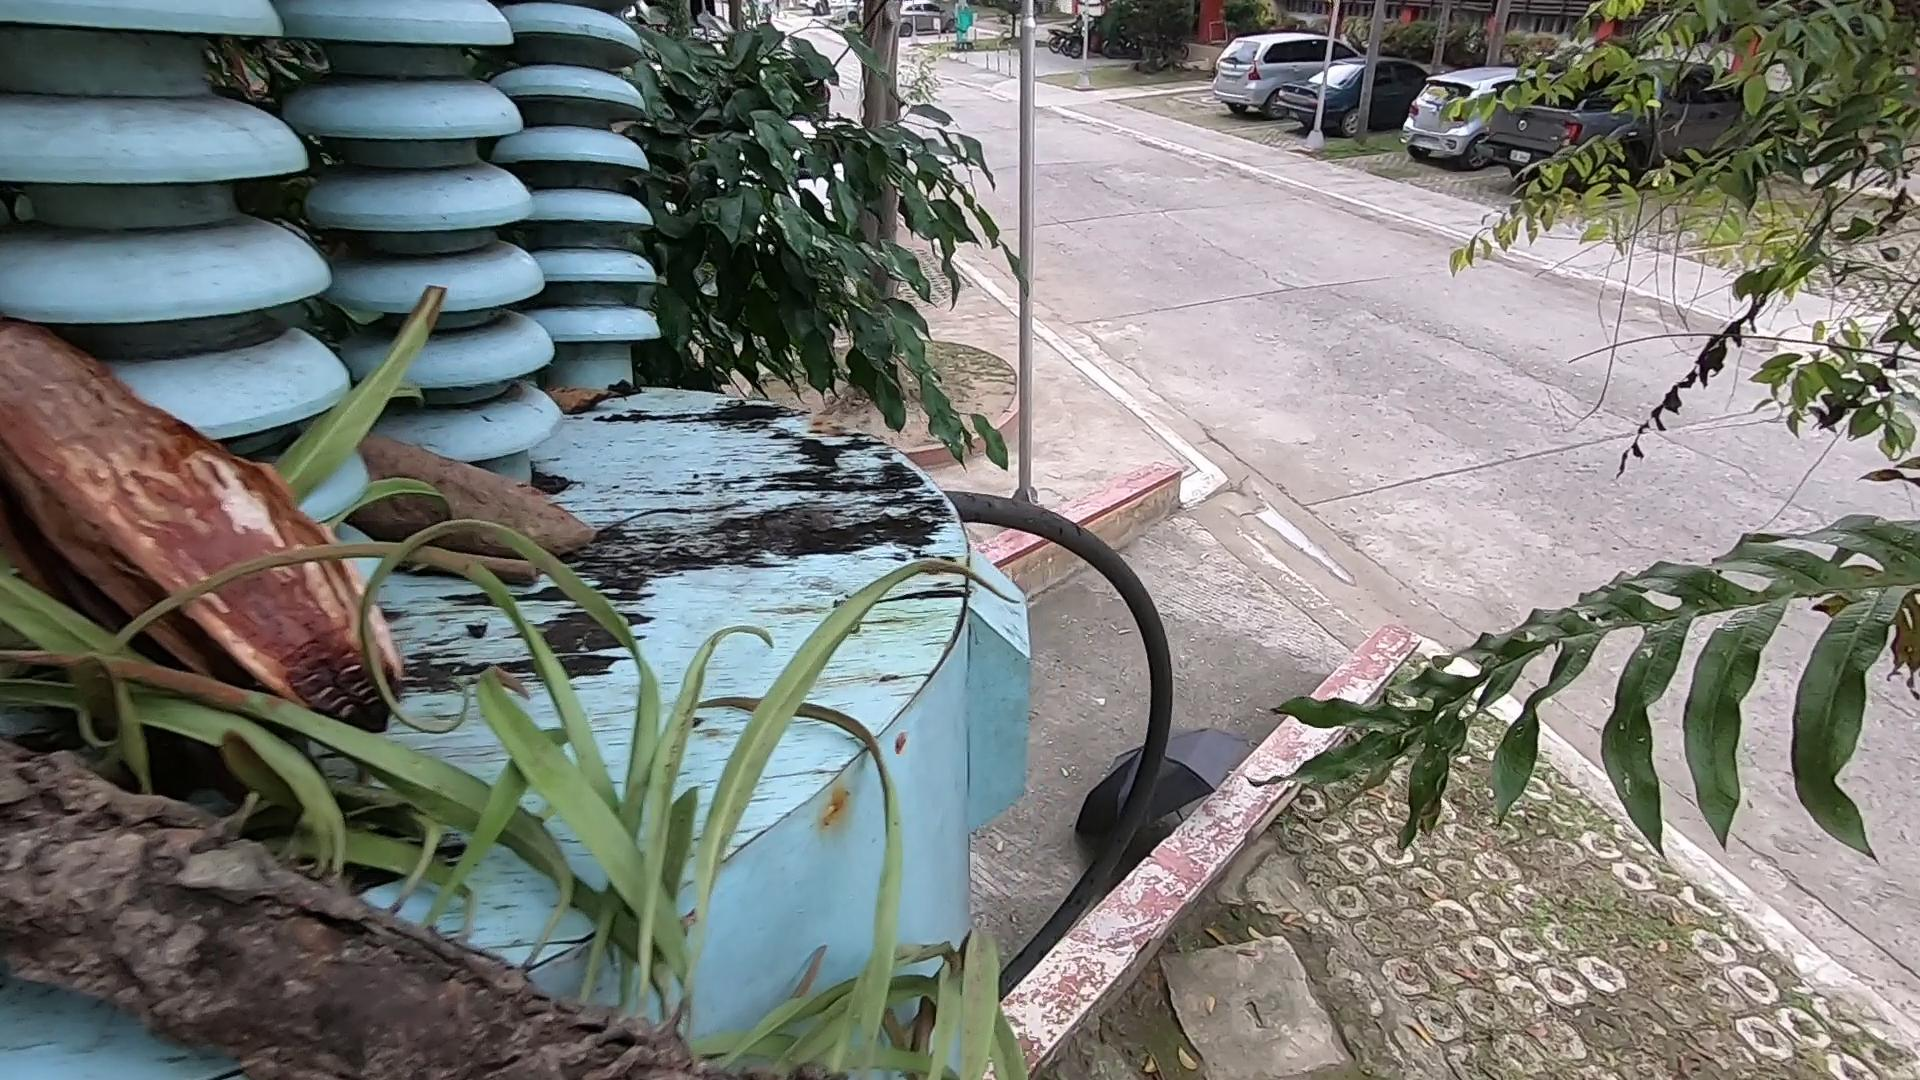branch with leaves: (11, 757, 774, 1080)
leaf: (551, 371, 611, 400)
mahogany fruit: (1, 245, 372, 753), (328, 419, 674, 553)
tree branch: (389, 516, 583, 592)
